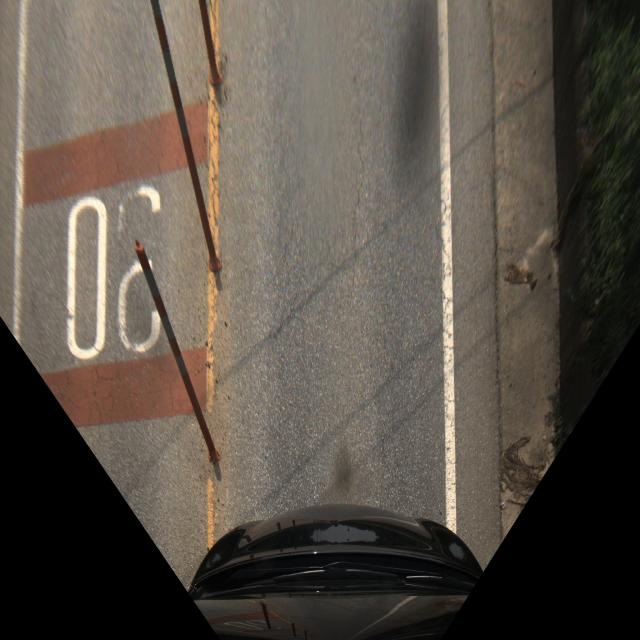30limit: (422, 232, 627, 516)
